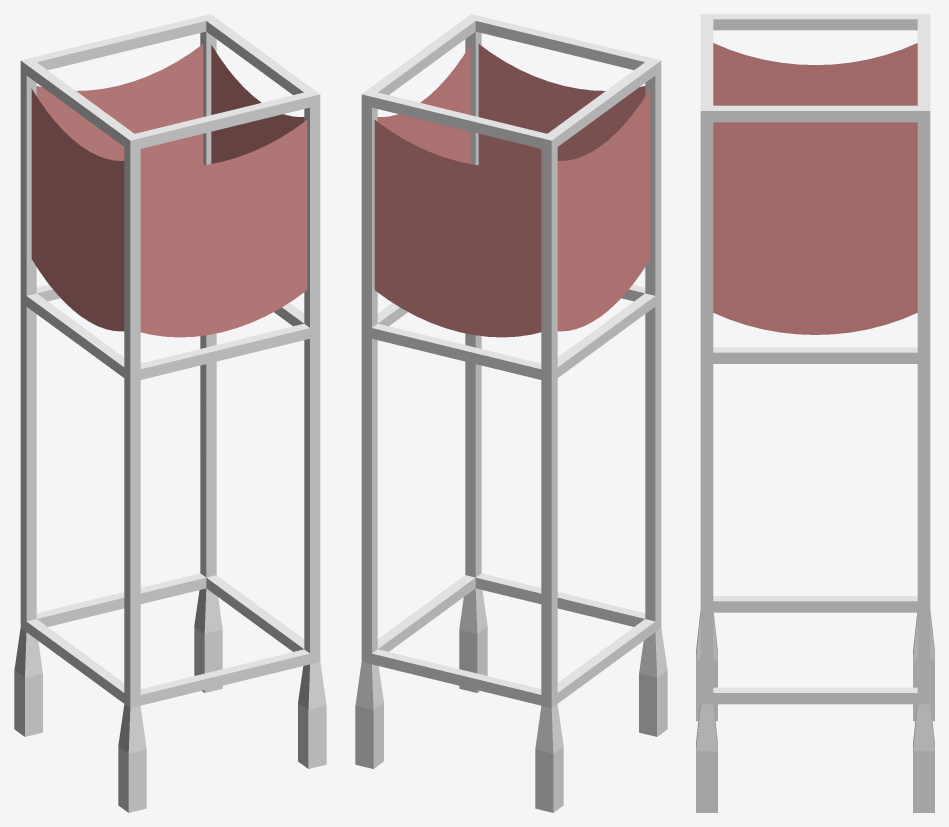
The model's file is bannerTowerRed.glb.
3 renders of one model, left to right at view 1: azimuth 30°, elevation 25°; view 2: azimuth 150°, elevation 25°; view 3: azimuth 270°, elevation 25°, orthographic. The views are drawn at different scales.
Parts seen in each view (by area): view 1: bannerTowerRed; view 2: bannerTowerRed; view 3: bannerTowerRed.
Boxes of the visible parts, x1,y1,x2,y2 form: bannerTowerRed: [14, 14, 326, 812]; bannerTowerRed: [355, 14, 667, 812]; bannerTowerRed: [696, 14, 934, 812].
Bounding box in the file's own units: 0.3852 × 1.25 × 0.3852.
